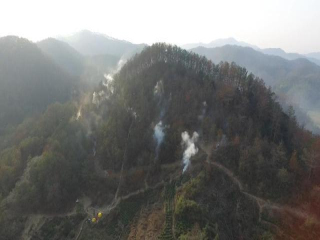smoke: (79, 60, 212, 176)
